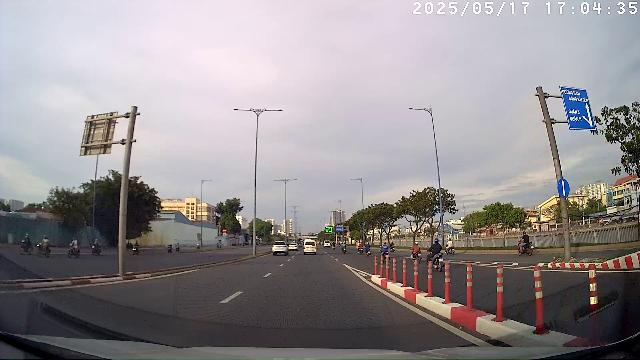301a-cac-xe-chi-duoc-di-thang: (556, 178, 570, 198)
